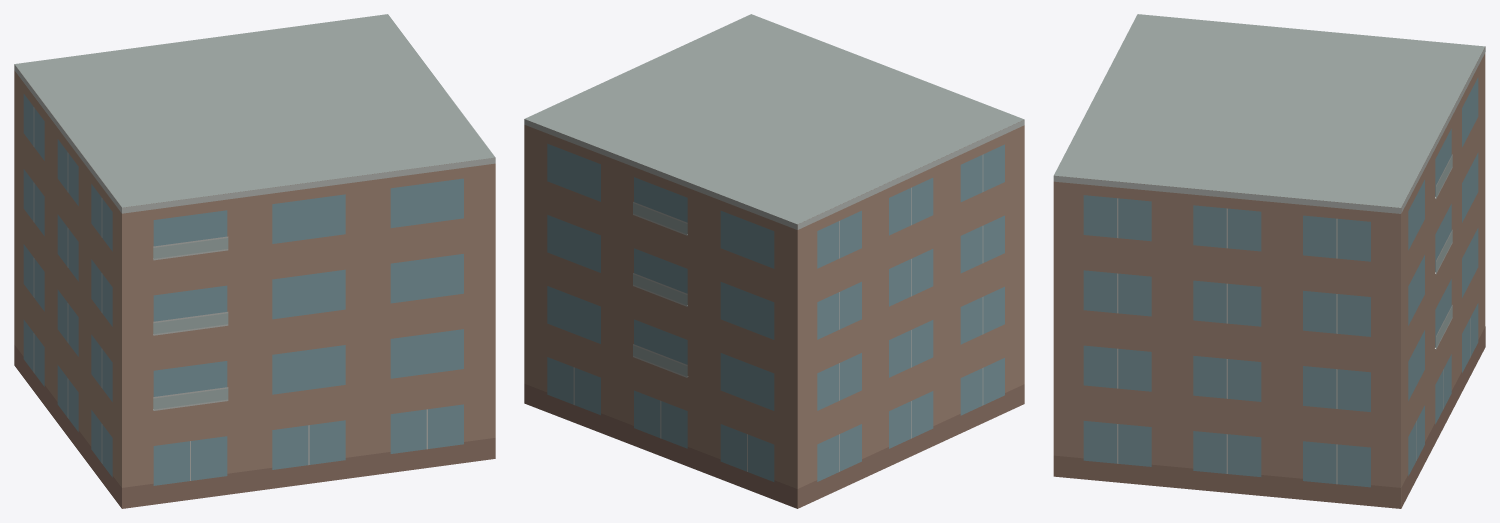
The model's file is residential-5deb9d05-0715-40a4-b4ca-b128f40d6faf.glb.
3 views of the same model, side by side, from view 1: azimuth 30°, elevation 25°; view 2: azimuth 150°, elevation 25°; view 3: azimuth 270°, elevation 25° (orthographic). The views are drawn at different scales.
Parts seen in each view (by area): view 1: residential-5deb9d05-0715-40a4-b4ca-b128f40d6faf.tmp; view 2: residential-5deb9d05-0715-40a4-b4ca-b128f40d6faf.tmp; view 3: residential-5deb9d05-0715-40a4-b4ca-b128f40d6faf.tmp.
Part boxes in pixels (x1,y1,x2,y2): residential-5deb9d05-0715-40a4-b4ca-b128f40d6faf.tmp: (14,14,495,508); residential-5deb9d05-0715-40a4-b4ca-b128f40d6faf.tmp: (524,14,1024,508); residential-5deb9d05-0715-40a4-b4ca-b128f40d6faf.tmp: (1053,14,1485,508).
Bounding box in the file's own units: 16.88 × 12.2 × 15.87.
